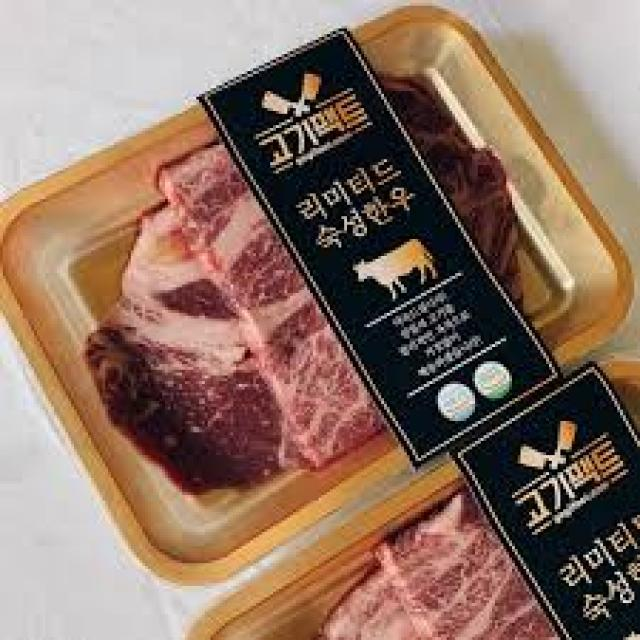pork: (7, 88, 564, 447), (225, 472, 637, 640)
